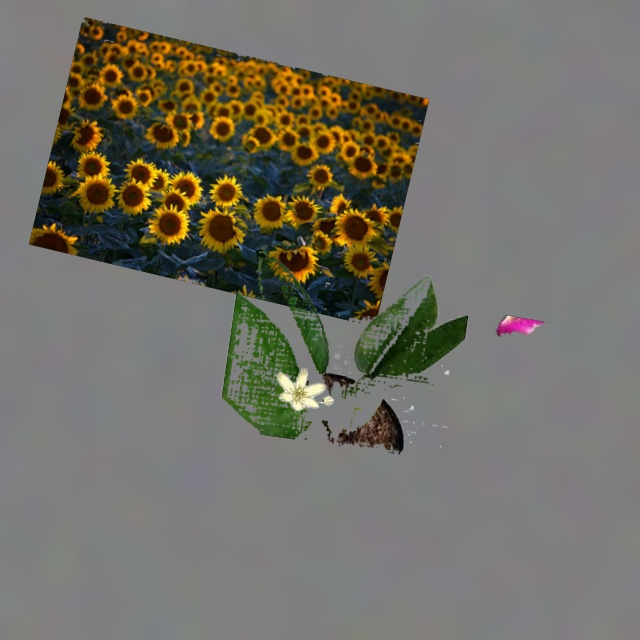foxglove: (496, 315, 543, 335)
jasmine: (276, 368, 333, 410)
sunflower: (29, 18, 428, 322)
ylang-ylang: (222, 252, 468, 453)
